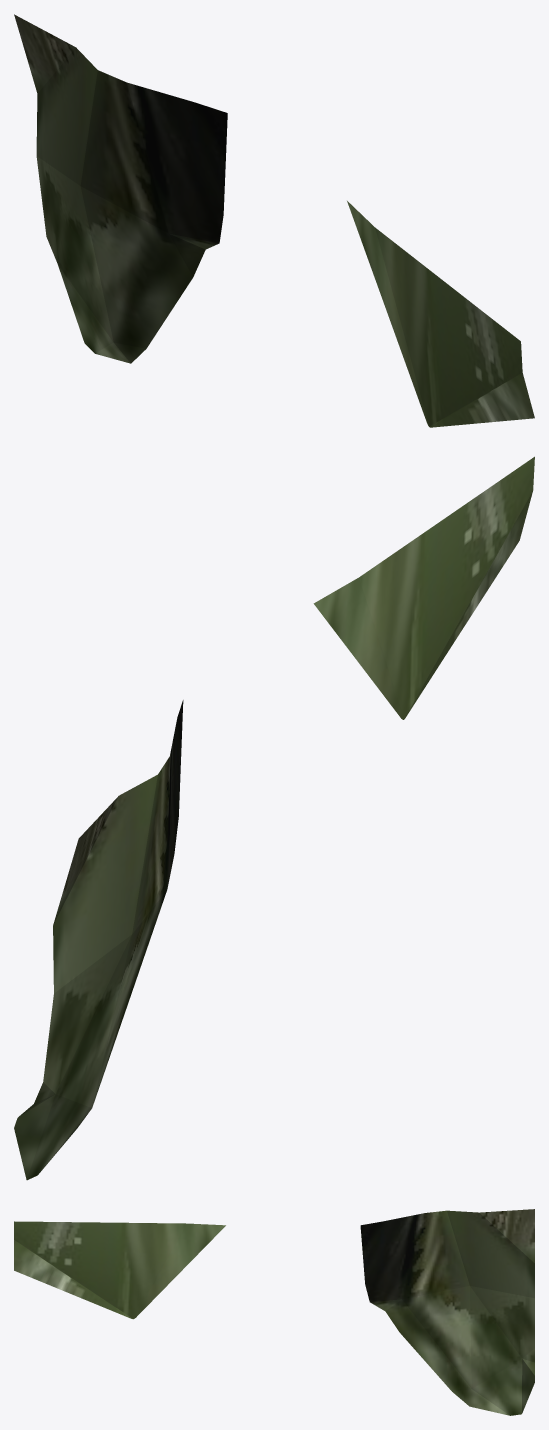
3 renders of one model, top to bottom at view 1: azimuth 30°, elevation 25°; view 2: azimuth 150°, elevation 25°; view 3: azimuth 270°, elevation 25°, orthographic. The views are drawn at different scales.
Size of the model in its own units: 0.2177 by 1.19 by 2.95.
1 material, 1 textured.
